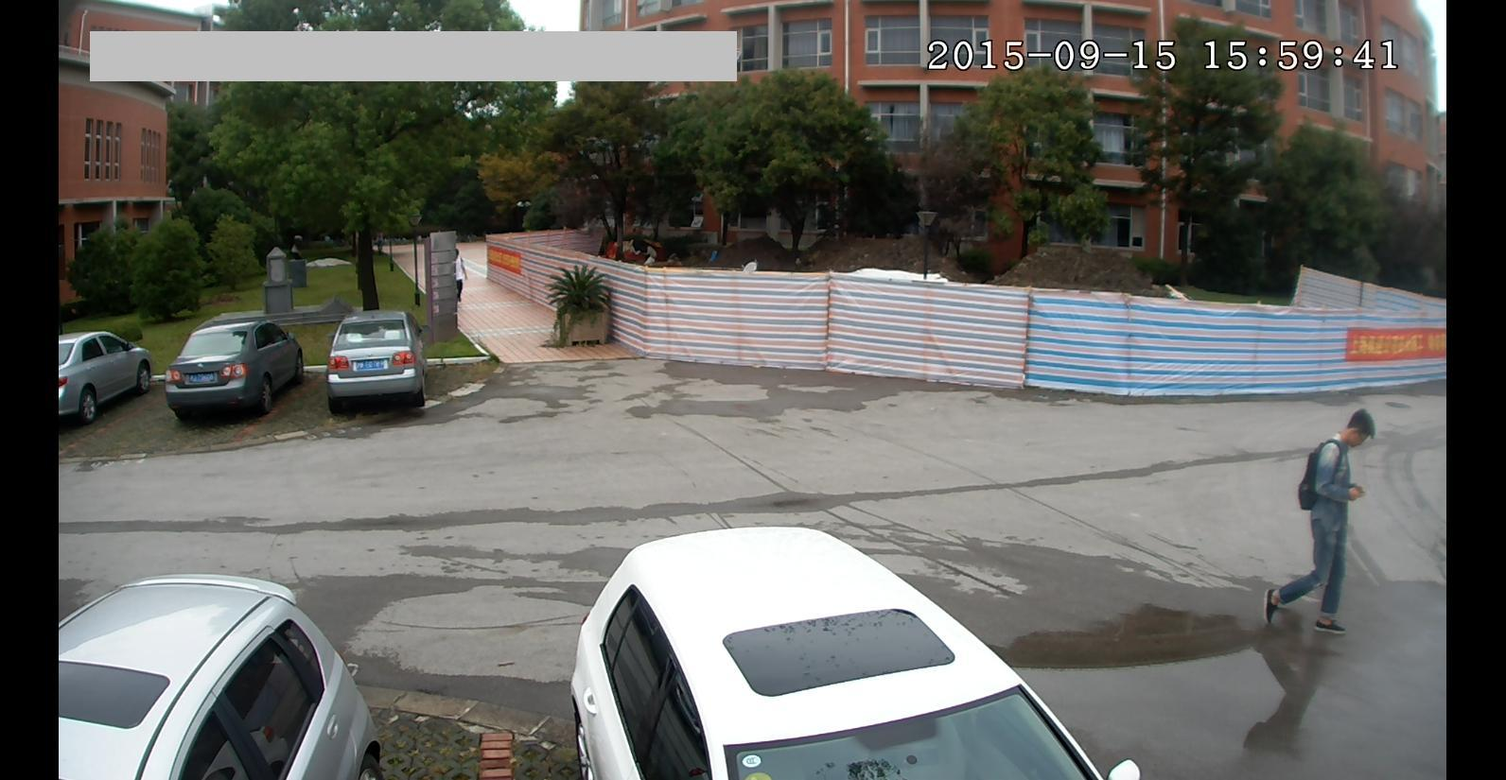person: (1257, 401, 1382, 642)
